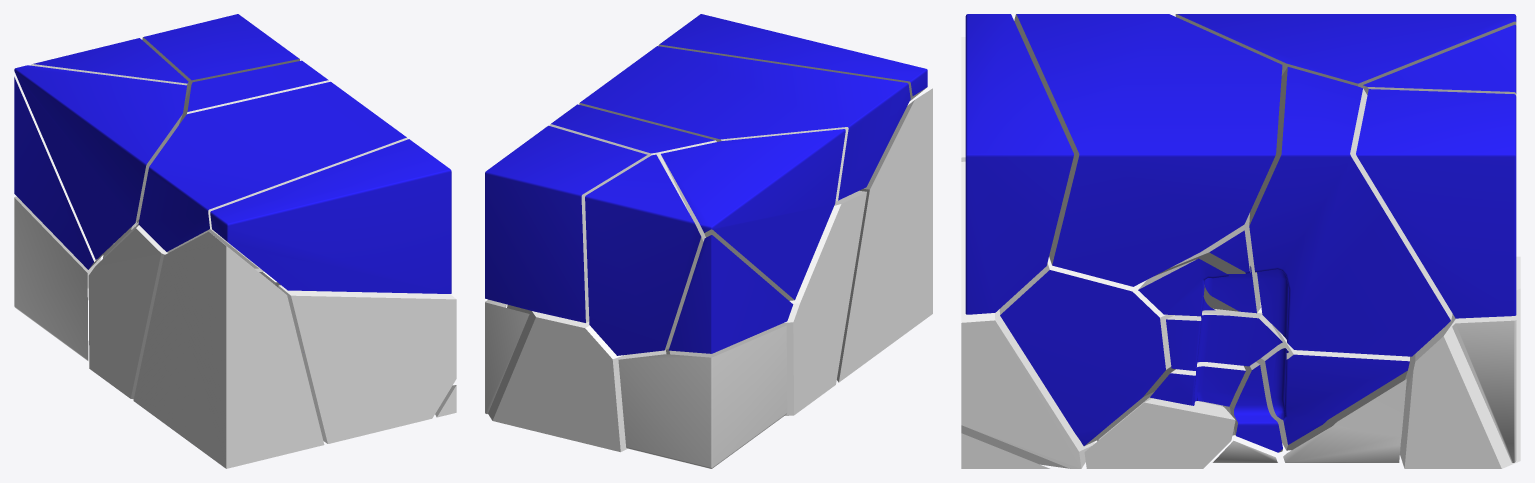
The model's file is Structure_Tower_Knight_Human_03_debris_cells_main_structure_01.fbx.
The picture shows the model from 3 angles, left to right: view 1: azimuth 30°, elevation 25°; view 2: azimuth 150°, elevation 25°; view 3: azimuth 270°, elevation 25°; orthographic projection. The views are drawn at different scales.
Parts seen in each view (by area): view 1: Structure_Tower_Knight_Human_03.007_cell.019, Structure_Tower_Knight_Human_03.007_cell.013, Structure_Tower_Knight_Human_03.007_cell.022, Structure_Tower_Knight_Human_03.007_cell.002, Structure_Tower_Knight_Human_03.007_cell.001, Structure_Tower_Knight_Human_03.007_cell.021, Structure_Tower_Knight_Human_03.007_cell.015, Structure_Tower_Knight_Human_03.007_cell.005, Structure_Tower_Knight_Human_03.007_cell.014, Structure_Tower_Knight_Human_03.007_cell.011, Structure_Tower_Knight_Human_03.007_cell.006; view 2: Structure_Tower_Knight_Human_03.007_cell.022, Structure_Tower_Knight_Human_03.007_cell.005, Structure_Tower_Knight_Human_03.007_cell.001, Structure_Tower_Knight_Human_03.007_cell.006, Structure_Tower_Knight_Human_03.007_cell.015, Structure_Tower_Knight_Human_03.007_cell.019, Structure_Tower_Knight_Human_03.007_cell.023, Structure_Tower_Knight_Human_03.007_cell.021, Structure_Tower_Knight_Human_03.007_cell.014, Structure_Tower_Knight_Human_03.007_cell.013, Structure_Tower_Knight_Human_03.007_cell.011, Structure_Tower_Knight_Human_03.007_cell.018; view 3: Structure_Tower_Knight_Human_03.007_cell.022, Structure_Tower_Knight_Human_03.007_cell.011, Structure_Tower_Knight_Human_03.007_cell.005, Structure_Tower_Knight_Human_03.007_cell.013, Structure_Tower_Knight_Human_03.007_cell.017, Structure_Tower_Knight_Human_03.007_cell.001, Structure_Tower_Knight_Human_03.007_cell.002, Structure_Tower_Knight_Human_03.007_cell.023, Structure_Tower_Knight_Human_03.007_cell, Structure_Tower_Knight_Human_03.007_cell.020, Structure_Tower_Knight_Human_03.007_cell.006, Structure_Tower_Knight_Human_03.007_cell.003 (+9 smaller).
Boxes of the visible parts, x1,y1,x2,y2 form: Structure_Tower_Knight_Human_03.007_cell.019: (133,231,324,468); Structure_Tower_Knight_Human_03.007_cell.013: (210,139,451,293); Structure_Tower_Knight_Human_03.007_cell.022: (138,81,407,268); Structure_Tower_Knight_Human_03.007_cell.002: (278,285,456,443); Structure_Tower_Knight_Human_03.007_cell.001: (14,65,186,259); Structure_Tower_Knight_Human_03.007_cell.021: (88,224,167,399); Structure_Tower_Knight_Human_03.007_cell.015: (14,196,100,361); Structure_Tower_Knight_Human_03.007_cell.005: (142,14,299,101); Structure_Tower_Knight_Human_03.007_cell.014: (14,76,112,269); Structure_Tower_Knight_Human_03.007_cell.011: (135,60,329,225); Structure_Tower_Knight_Human_03.007_cell.006: (30,38,188,243); Structure_Tower_Knight_Human_03.007_cell.022: (579,46,910,200); Structure_Tower_Knight_Human_03.007_cell.005: (485,125,647,322); Structure_Tower_Knight_Human_03.007_cell.001: (661,129,845,300); Structure_Tower_Knight_Human_03.007_cell.006: (585,154,703,355); Structure_Tower_Knight_Human_03.007_cell.015: (618,325,787,468); Structure_Tower_Knight_Human_03.007_cell.019: (837,88,932,382); Structure_Tower_Knight_Human_03.007_cell.023: (488,305,666,452); Structure_Tower_Knight_Human_03.007_cell.021: (666,190,866,415); Structure_Tower_Knight_Human_03.007_cell.014: (668,235,793,353); Structure_Tower_Knight_Human_03.007_cell.013: (658,14,927,100); Structure_Tower_Knight_Human_03.007_cell.011: (549,104,716,212); Structure_Tower_Knight_Human_03.007_cell.018: (485,299,529,413); Structure_Tower_Knight_Human_03.007_cell.022: (1014,14,1282,286); Structure_Tower_Knight_Human_03.007_cell.011: (1249,67,1452,356); Structure_Tower_Knight_Human_03.007_cell.005: (1356,89,1516,318); Structure_Tower_Knight_Human_03.007_cell.013: (965,14,1073,314); Structure_Tower_Knight_Human_03.007_cell.017: (999,257,1175,446); Structure_Tower_Knight_Human_03.007_cell.001: (1175,14,1516,87); Structure_Tower_Knight_Human_03.007_cell.002: (961,161,1094,468); Structure_Tower_Knight_Human_03.007_cell.023: (1400,256,1520,468); Structure_Tower_Knight_Human_03.007_cell: (1256,325,1409,450); Structure_Tower_Knight_Human_03.007_cell.020: (1084,398,1235,468); Structure_Tower_Knight_Human_03.007_cell.006: (1362,24,1516,95); Structure_Tower_Knight_Human_03.007_cell.003: (1166,309,1282,370).
Bounding box in the file's own units: 403 × 406 × 658.
